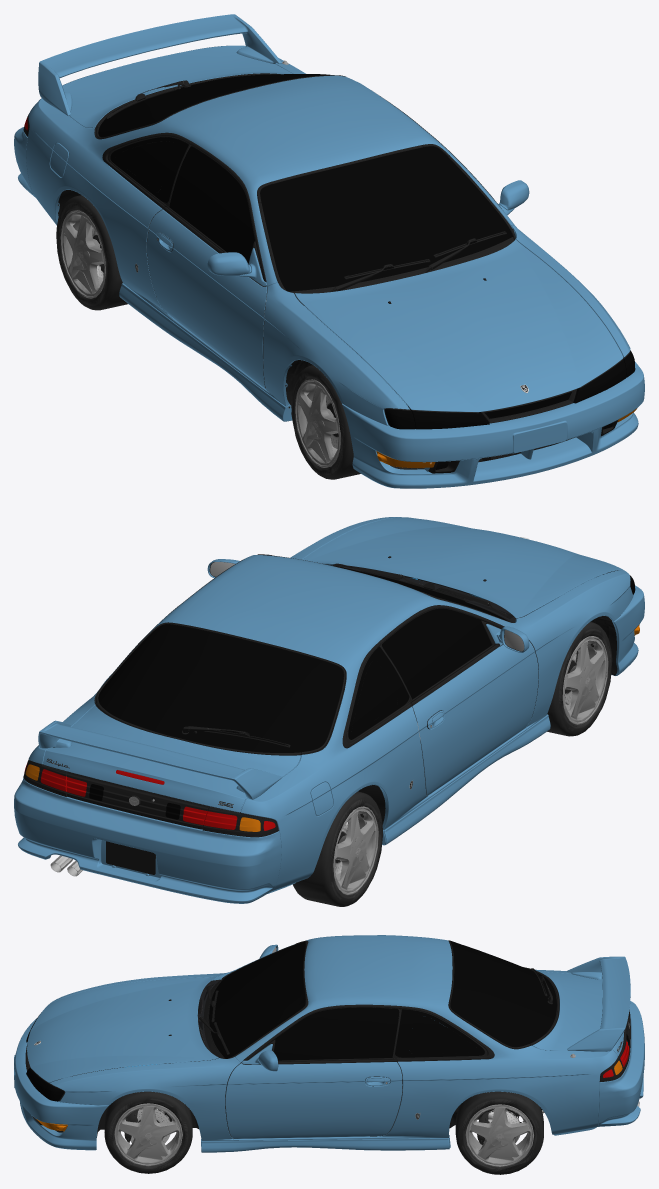
The model's file is DECIMATED_MODEL_S14.fbx.
The picture shows the model from 3 angles, top to bottom: view 1: azimuth 30°, elevation 25°; view 2: azimuth 150°, elevation 25°; view 3: azimuth 270°, elevation 25°; orthographic projection. The views are drawn at different scales.
Visible parts, largest first — view 1: S14:M_CarPaint_Max, S14:M_Glass_WindowFront_Max, S14:M_Opaque_RubberSmooth_Max, S14:M_Glass_WindowSurroundLeft_Max, S14:car_nissan_silviak_1998_hood_seta_mesh_lod0_M_Opaque_Pla, S14:M_LGlass_OuterClear_Max, M_Rim_Main_Max, M_Rim_Main_Max2, wheela:polySurface484, wheela:polySurface163, S14:M_Chassis_Max; view 2: S14:M_CarPaint_Max, S14:M_Glass_WindowFront_Max, S14:M_Glass_WindowSurroundLeft_Max, S14:M_Opaque_RubberSmooth_Max, S14:car_nissan_silviak_1998_hood_seta_mesh_lod0_M_Opaque_Pla, wheela:polySurface484, S14:M_LGlass_OuterClear_Max, M_Rim_Main_Max, M_Rim_Main_Max2, wheela:polySurface163, S14:M_LicensePlate_Max, S14:M_Chassis_Max (+1 smaller); view 3: S14:M_CarPaint_Max, S14:M_Glass_WindowFront_Max, S14:M_Glass_WindowSurroundLeft_Max, S14:car_nissan_silviak_1998_hood_seta_mesh_lod0_M_Opaque_Pla, wheela:polySurface325, wheela:polySurface1, M_Rim_Main_Max1, S14:M_Rim_Main_Max, S14:M_Opaque_RubberSmooth_Max, S14:M_LGlass_OuterClear_Max, S14:M_Chassis_Max, S14:M_Engine_Max.001.
Part boxes in pixels (x1,y1,x2,y2): S14:M_CarPaint_Max: (14,14,644,488); S14:M_Glass_WindowFront_Max: (106,74,508,286); S14:M_Opaque_RubberSmooth_Max: (23,114,630,473); S14:M_Glass_WindowSurroundLeft_Max: (98,75,512,291); S14:car_nissan_silviak_1998_hood_seta_mesh_lod0_M_Opaque_Pla: (94,73,623,413); S14:M_LGlass_OuterClear_Max: (24,117,637,469); M_Rim_Main_Max: (295,379,340,467); M_Rim_Main_Max2: (60,210,105,298); wheela:polySurface484: (56,195,127,310); wheela:polySurface163: (291,365,360,479); S14:M_Chassis_Max: (58,189,575,469); S14:M_CarPaint_Max: (14,517,644,903); S14:M_Glass_WindowFront_Max: (106,564,506,745); S14:M_Glass_WindowSurroundLeft_Max: (98,607,508,752); S14:M_Opaque_RubberSmooth_Max: (23,554,630,875); S14:car_nissan_silviak_1998_hood_seta_mesh_lod0_M_Opaque_Pla: (94,556,504,755); wheela:polySurface484: (293,791,382,906); S14:M_LGlass_OuterClear_Max: (24,570,639,831); M_Rim_Main_Max: (562,636,608,724); M_Rim_Main_Max2: (333,806,378,895); wheela:polySurface163: (547,622,612,736); S14:M_LicensePlate_Max: (106,841,155,874); S14:M_Chassis_Max: (351,579,617,824); S14:M_CarPaint_Max: (14,935,644,1152); S14:M_Glass_WindowFront_Max: (213,942,550,1060); S14:M_Glass_WindowSurroundLeft_Max: (209,941,556,1058); S14:car_nissan_silviak_1998_hood_seta_mesh_lod0_M_Opaque_Pla: (31,940,559,1086); wheela:polySurface325: (455,1091,543,1174); wheela:polySurface1: (104,1091,192,1173); M_Rim_Main_Max1: (465,1104,533,1167); S14:M_Rim_Main_Max: (114,1103,182,1166); S14:M_Opaque_RubberSmooth_Max: (25,940,630,1125); S14:M_LGlass_OuterClear_Max: (26,1012,629,1131); S14:M_Chassis_Max: (55,972,542,1138); S14:M_Engine_Max.001: (190,979,220,1061).
Size of the model in its own units: 319 by 207 by 724.
21 materials, 7 textured.
